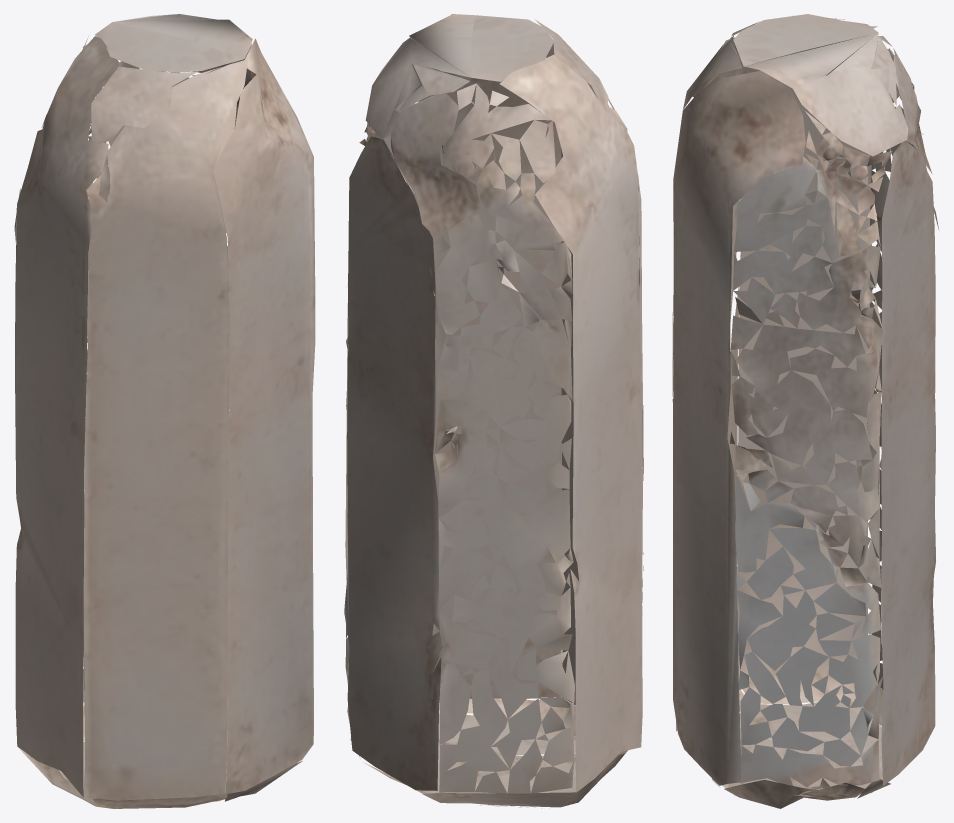
The model's file is pro_chalk.glb.
3 renders of one model, left to right at view 1: azimuth 30°, elevation 25°; view 2: azimuth 150°, elevation 25°; view 3: azimuth 270°, elevation 25°, orthographic.
Parts seen in each view (by area): view 1: MetricPlacement; view 2: MetricPlacement; view 3: MetricPlacement.
Boxes of the visible parts, left/top/right/bottom form: MetricPlacement: left=14, top=14, right=315, bottom=808; MetricPlacement: left=344, top=14, right=643, bottom=808; MetricPlacement: left=672, top=14, right=938, bottom=808.
Size of the model in its own units: 0.0341 by 0.1 by 0.0336.
Materials: 1 (1 with a texture image).
